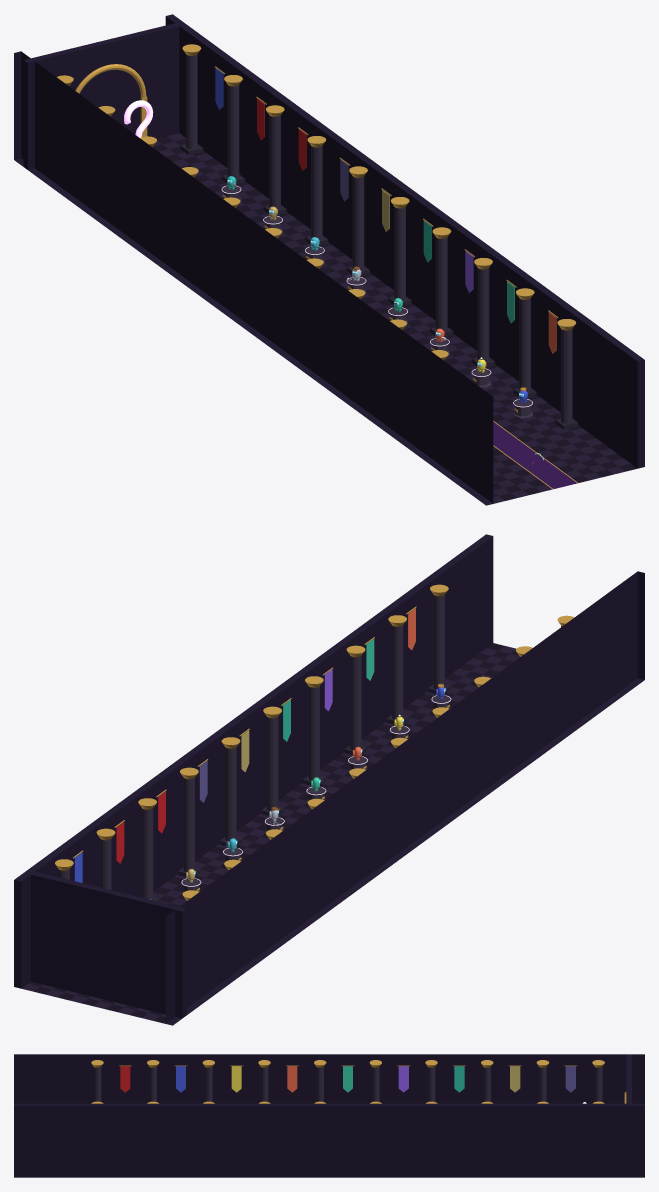
Rendered from unknowns.glb.
3 renders of one model, top to bottom at view 1: azimuth 30°, elevation 25°; view 2: azimuth 150°, elevation 25°; view 3: azimuth 270°, elevation 25°, orthographic. The views are drawn at different scales.
Parts seen in each view (by area): view 1: terrain_hall, columns, banners; view 2: terrain_hall, columns, banners; view 3: terrain_hall, columns, banners.
Part boxes in pixels (x1=…): terrain_hall: x1=14, y1=14, x2=644, y2=505; columns: x1=57, y1=44, x2=578, y2=429; banners: x1=214, y1=66, x2=558, y2=353; terrain_hall: x1=14, y1=534, x2=644, y2=1025; columns: x1=55, y1=584, x2=574, y2=901; banners: x1=73, y1=606, x2=416, y2=882; terrain_hall: x1=14, y1=1054, x2=644, y2=1177; columns: x1=91, y1=1060, x2=604, y2=1103; banners: x1=119, y1=1065, x2=576, y2=1092.
Bounding box in the file's own units: 13.2 × 8.5 × 68.
